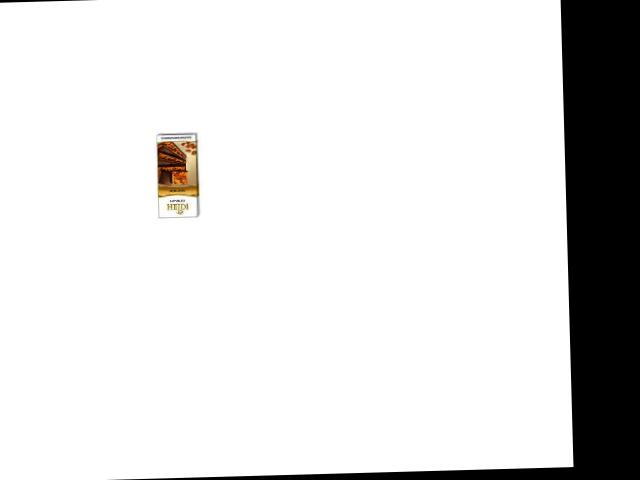chocolate: (148, 129, 215, 223)
